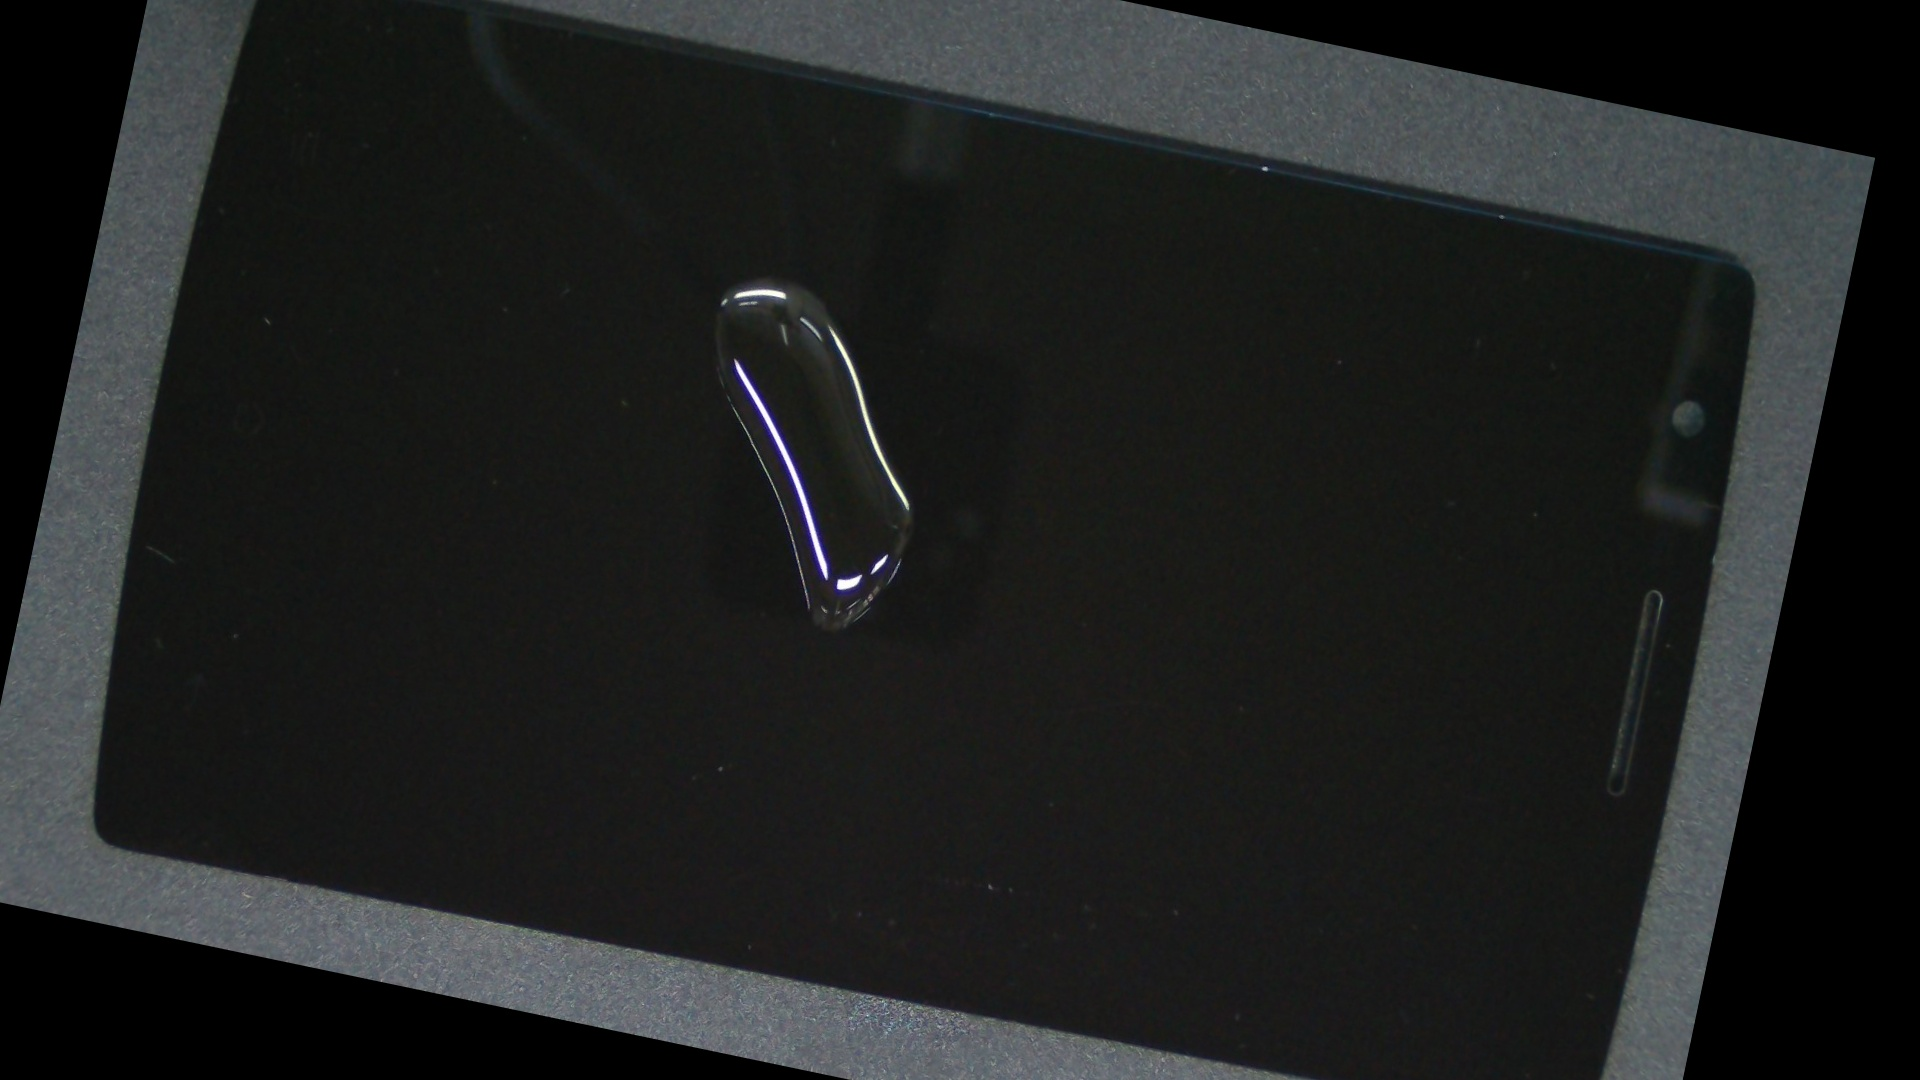oil: (414, 41, 1145, 514)
